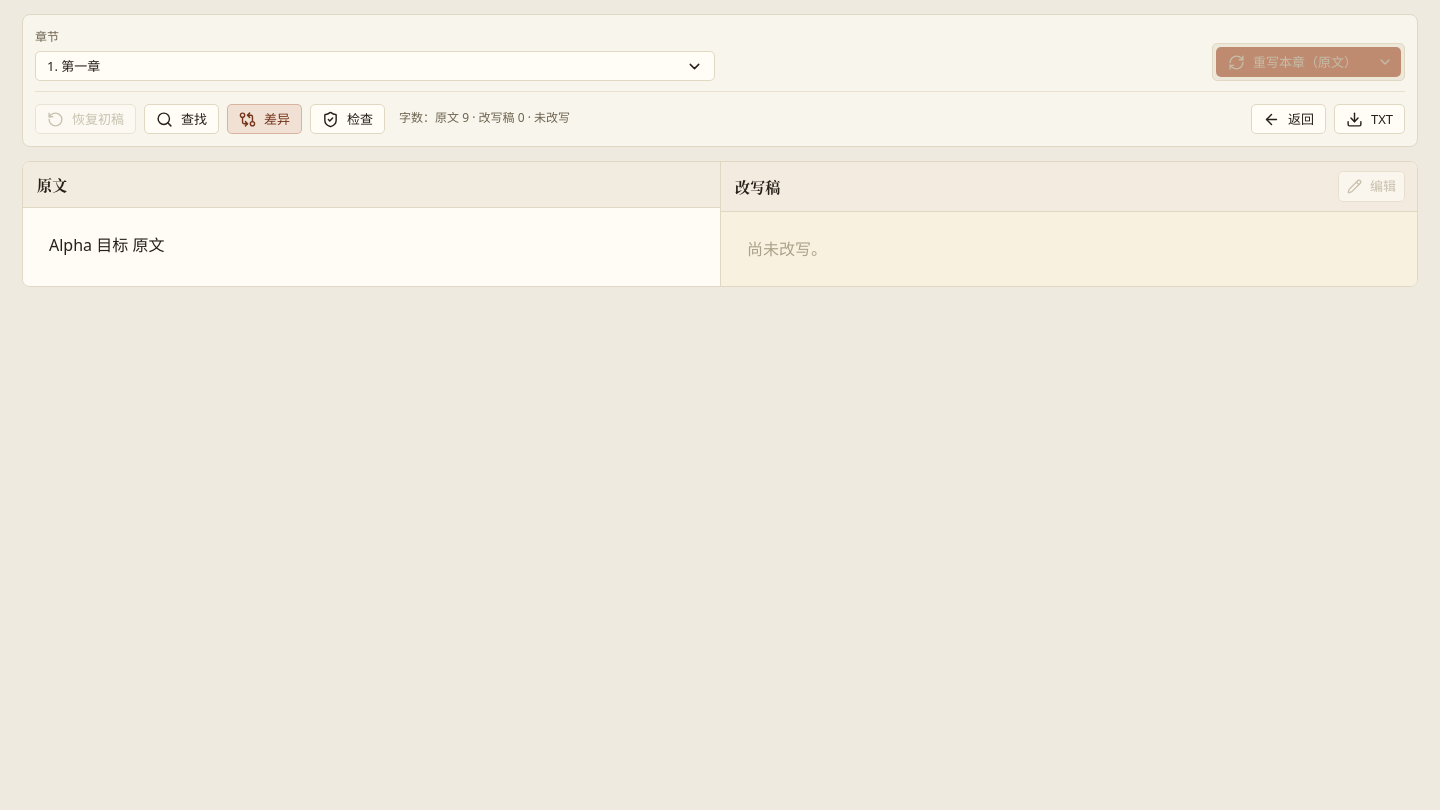
Test: CompareView › does not count pending empty rewrites as quality issues
The width and height of the screenshot is (1440, 810).
Step 1. Click the button "检查" → click(348, 119), box 310,104 -> 385,134
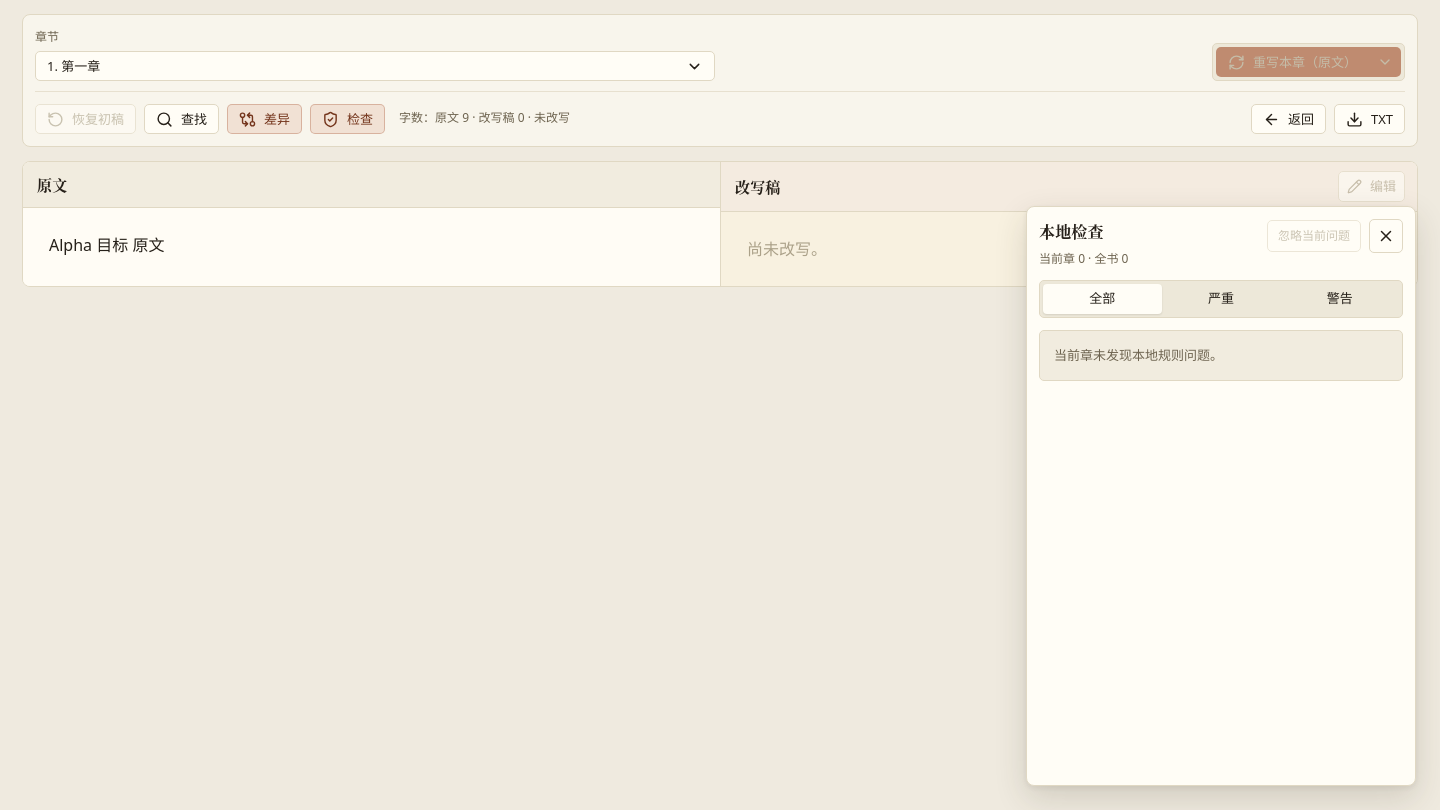
Expected: the element named "改写稿内容" reads "尚未改写。", 747,238 -> 827,260
Now the element named "本地质量检查" shows "当前章 0 · 全书 0", box 1026,206 -> 1416,786
Now the element named "本地质量检查" shows "当前章未发现本地规则问题。", box 1054,346 -> 1223,364
